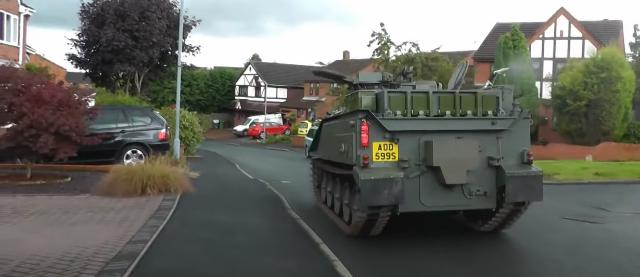tank: (309, 81, 539, 238)
